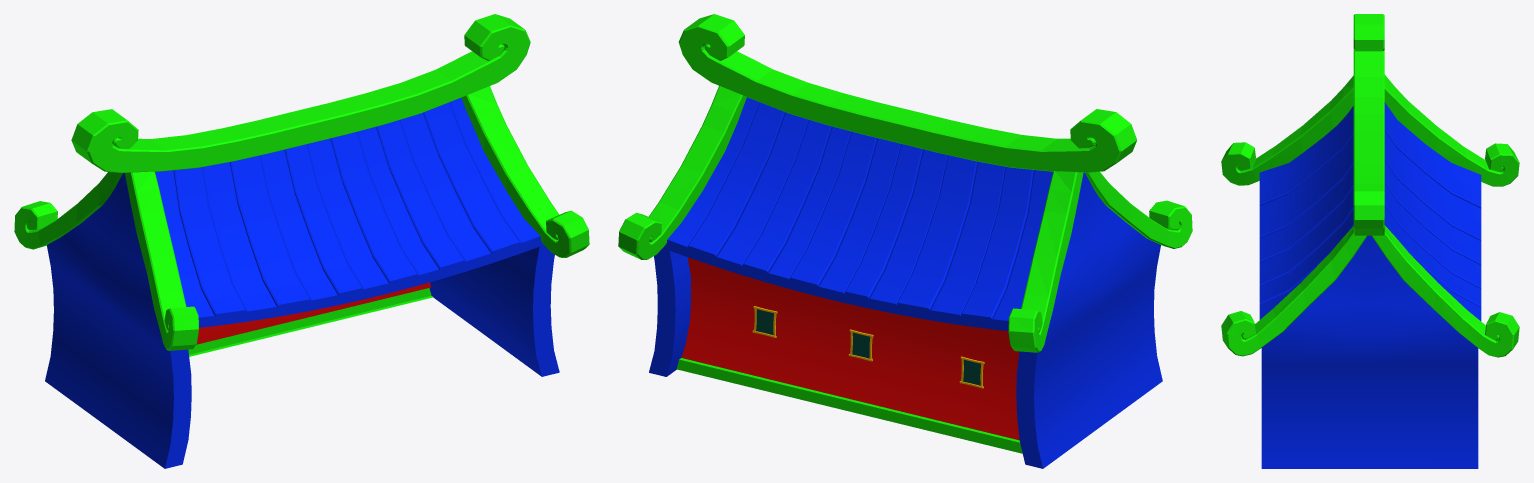
File: Temple.fbx
3 views of the same model, side by side, from view 1: azimuth 30°, elevation 25°; view 2: azimuth 150°, elevation 25°; view 3: azimuth 270°, elevation 25° (orthographic). The views are drawn at different scales.
Parts seen in each view (by area): view 1: Temple; view 2: Temple; view 3: Temple.
Boxes of the visible parts, box(x1,y1,x2,y2) form: Temple: box(14, 14, 589, 468); Temple: box(618, 14, 1192, 468); Temple: box(1221, 14, 1519, 468).
Size of the model in its own units: 979 by 651 by 632.
